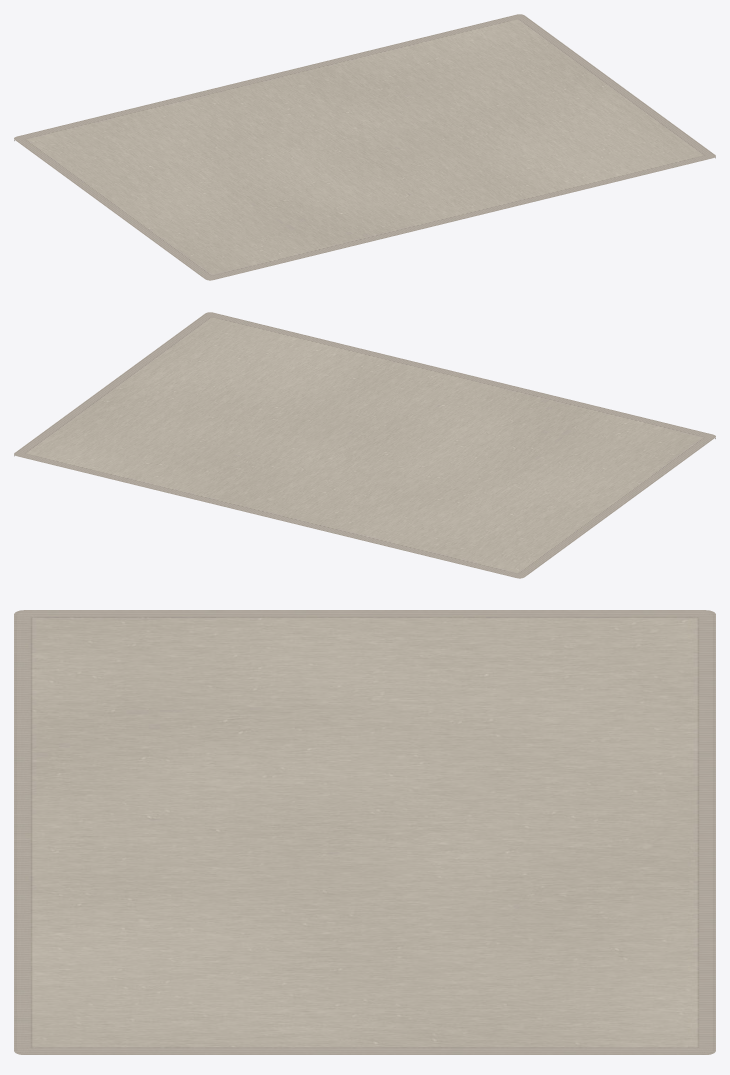
Rendered from beige_S_r90.glb.
The picture shows the model from 3 angles, top to bottom: view 1: azimuth 30°, elevation 25°; view 2: azimuth 150°, elevation 25°; view 3: azimuth 270°, elevation 25°; orthographic projection. The views are drawn at different scales.
Visible parts, largest first — view 1: reliv_beige_S_r90; view 2: reliv_beige_S_r90; view 3: reliv_beige_S_r90.
Boxes of the visible parts, x1,y1,x2,y2 form: reliv_beige_S_r90: (14, 14, 715, 280); reliv_beige_S_r90: (14, 312, 715, 578); reliv_beige_S_r90: (14, 610, 715, 1054).
Size of the model in its own units: 1.5 by 0.009 by 1.
2 materials, 1 textured.
